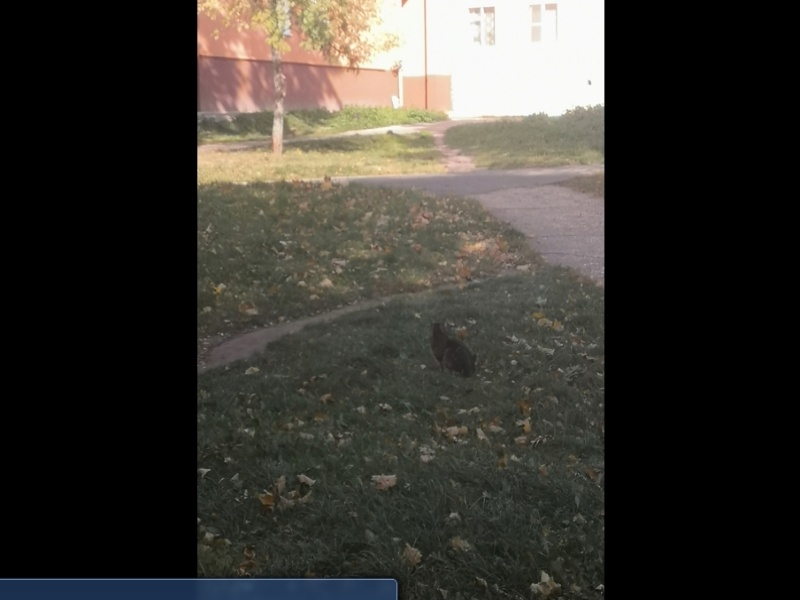cat: (428, 322, 482, 382)
